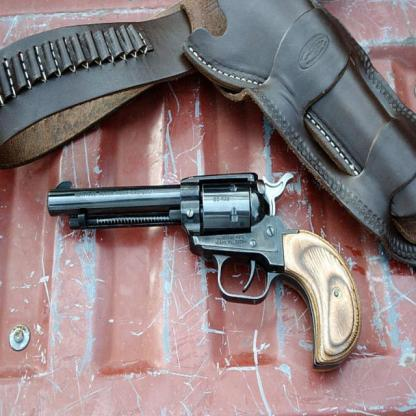weapon: (46, 171, 363, 372)
